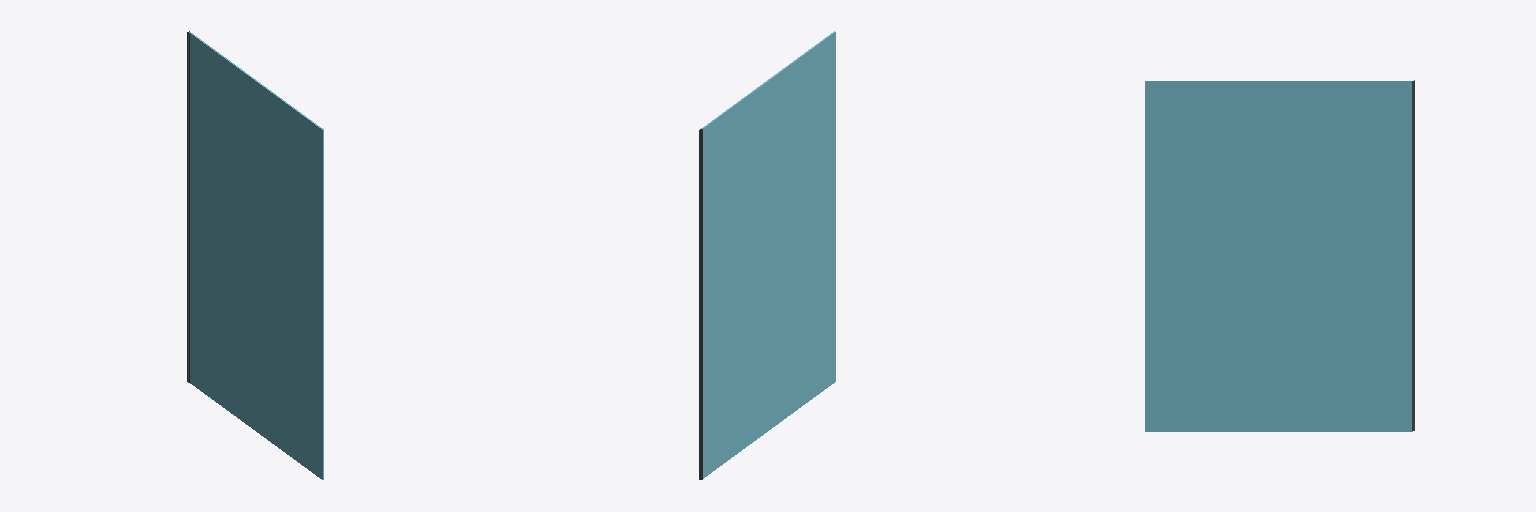
File: Trennwand.obj
3 views of the same model, side by side, from view 1: azimuth 30°, elevation 25°; view 2: azimuth 150°, elevation 25°; view 3: azimuth 270°, elevation 25° (orthographic).
Visible parts, largest first — view 1: Mesh1 Component_651 G_10_Trennwand_dwg1 Model, Mesh3 Component_652 G_10_Trennwand_dwg1 Model; view 2: Mesh1 Component_651 G_10_Trennwand_dwg1 Model, Mesh3 Component_652 G_10_Trennwand_dwg1 Model; view 3: Mesh1 Component_651 G_10_Trennwand_dwg1 Model, Mesh3 Component_652 G_10_Trennwand_dwg1 Model.
Part boxes in pixels (left/top/right/bottom): Mesh1 Component_651 G_10_Trennwand_dwg1 Model: left=189, top=32, right=323, bottom=479; Mesh3 Component_652 G_10_Trennwand_dwg1 Model: left=187, top=31, right=189, bottom=382; Mesh1 Component_651 G_10_Trennwand_dwg1 Model: left=701, top=31, right=835, bottom=478; Mesh3 Component_652 G_10_Trennwand_dwg1 Model: left=699, top=129, right=702, bottom=479; Mesh1 Component_651 G_10_Trennwand_dwg1 Model: left=1145, top=81, right=1412, bottom=431; Mesh3 Component_652 G_10_Trennwand_dwg1 Model: left=1412, top=80, right=1414, bottom=430.
Size of the model in its own units: 1.7 by 230 by 160.